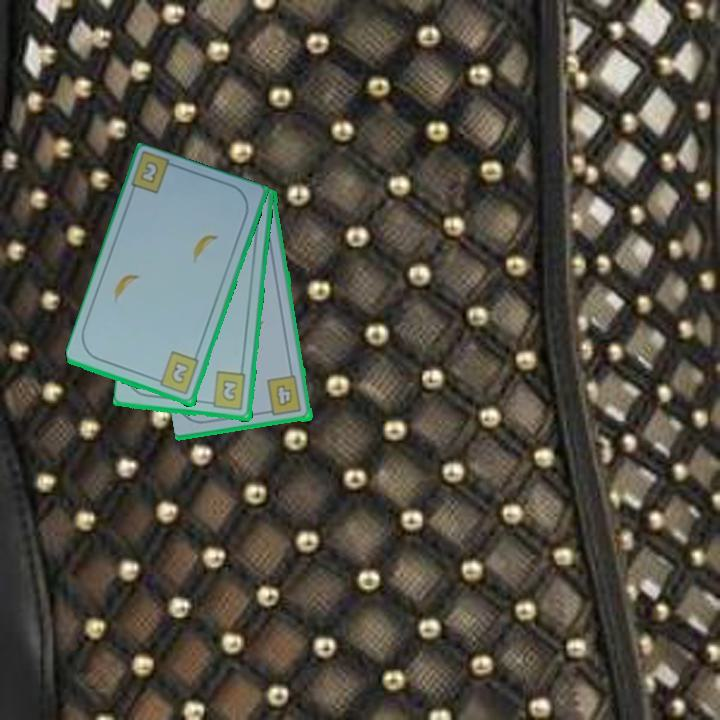2b: (151, 348, 202, 398), (204, 369, 249, 413), (137, 158, 162, 187)
4b: (262, 373, 305, 419)
